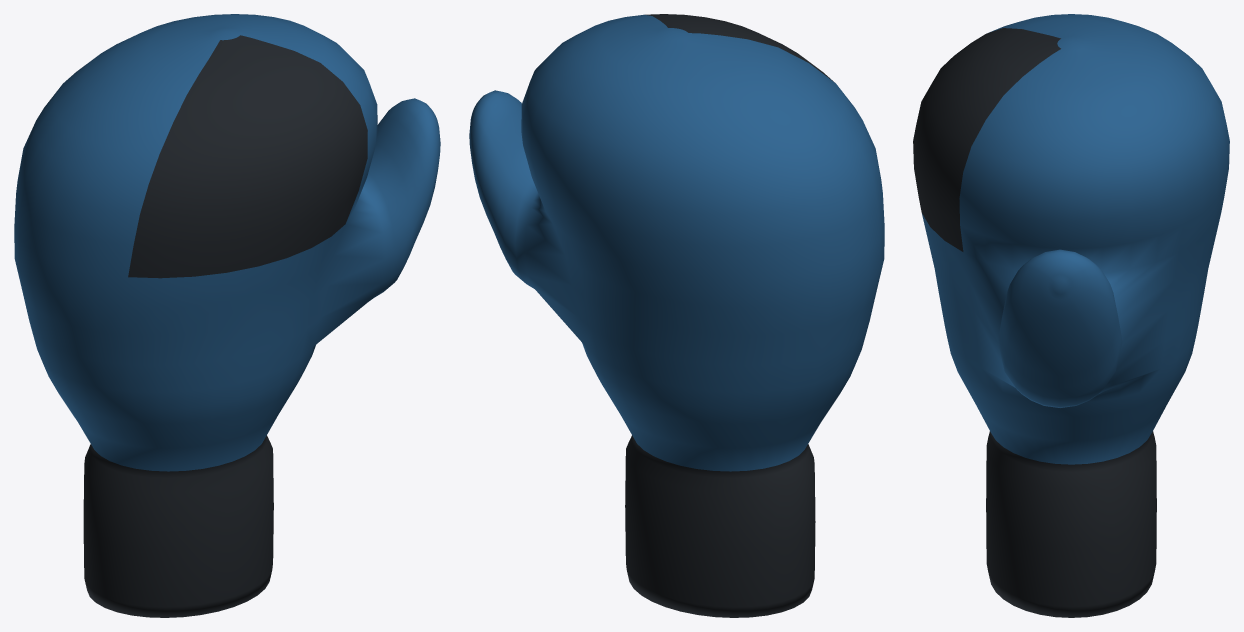
The model's file is A-NEW-20261027-BOXING_GLOVE-001_LOD2_R5.fbx.
3 renders of one model, left to right at view 1: azimuth 30°, elevation 25°; view 2: azimuth 150°, elevation 25°; view 3: azimuth 270°, elevation 25°, orthographic. The views are drawn at different scales.
Parts seen in each view (by area): view 1: original padded fist curved thumb and open wrist cuff; view 2: original padded fist curved thumb and open wrist cuff; view 3: original padded fist curved thumb and open wrist cuff.
Part boxes in pixels (x1,y1,x2,y2): original padded fist curved thumb and open wrist cuff: [14, 14, 440, 617]; original padded fist curved thumb and open wrist cuff: [469, 14, 884, 617]; original padded fist curved thumb and open wrist cuff: [913, 14, 1229, 617].
Size of the model in its own units: 16.87 by 21.79 by 11.2.
